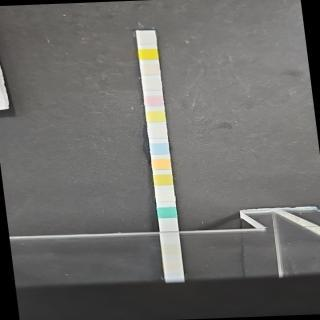mark: (149, 126, 168, 139), (152, 158, 171, 170), (147, 110, 166, 122), (157, 206, 175, 218), (151, 142, 169, 154), (144, 78, 162, 90), (142, 63, 160, 75), (140, 48, 158, 60), (139, 32, 157, 44), (154, 174, 173, 185), (145, 95, 164, 106), (157, 190, 174, 202)
